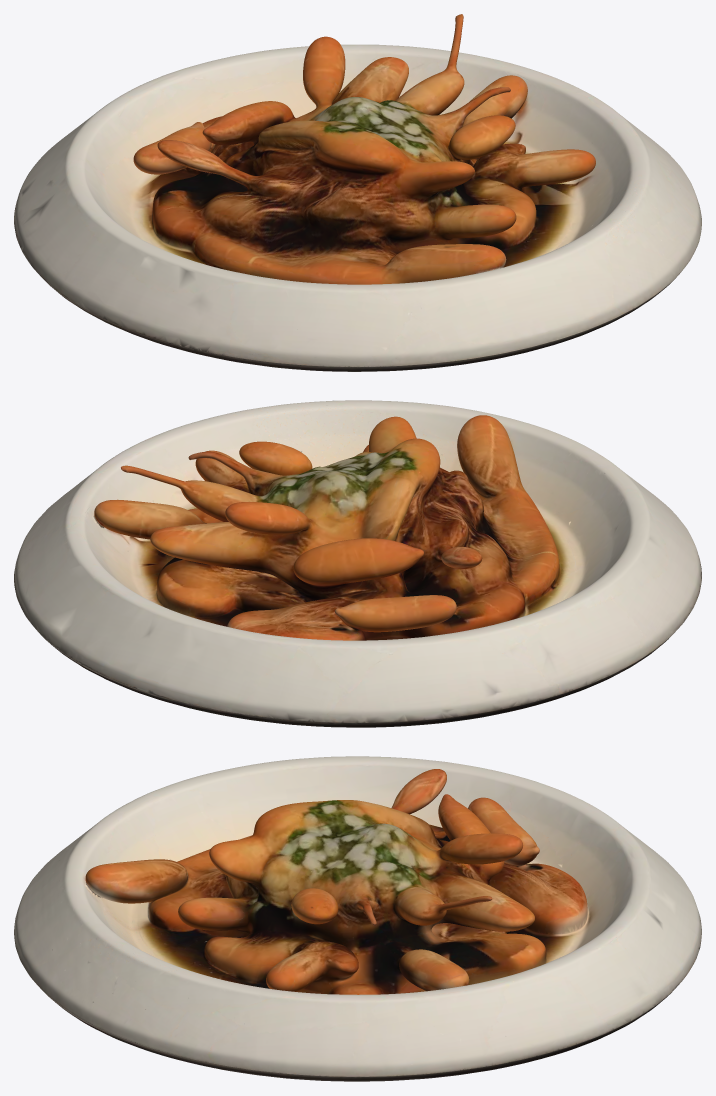
Rendered from Golden Soy Sauce Shrimp.glb.
3 views of the same model, one above another, from view 1: azimuth 30°, elevation 25°; view 2: azimuth 150°, elevation 25°; view 3: azimuth 270°, elevation 25° (orthographic).
Visible parts, largest first — view 1: material; view 2: material; view 3: material.
Part boxes in pixels (left/top/right/bottom): material: left=14, top=14, right=701, bottom=371; material: left=14, top=400, right=701, bottom=727; material: left=14, top=756, right=701, bottom=1081.
Bounding box in the file's own units: 1.17 × 0.2436 × 1.18.
1 material, 1 textured.
